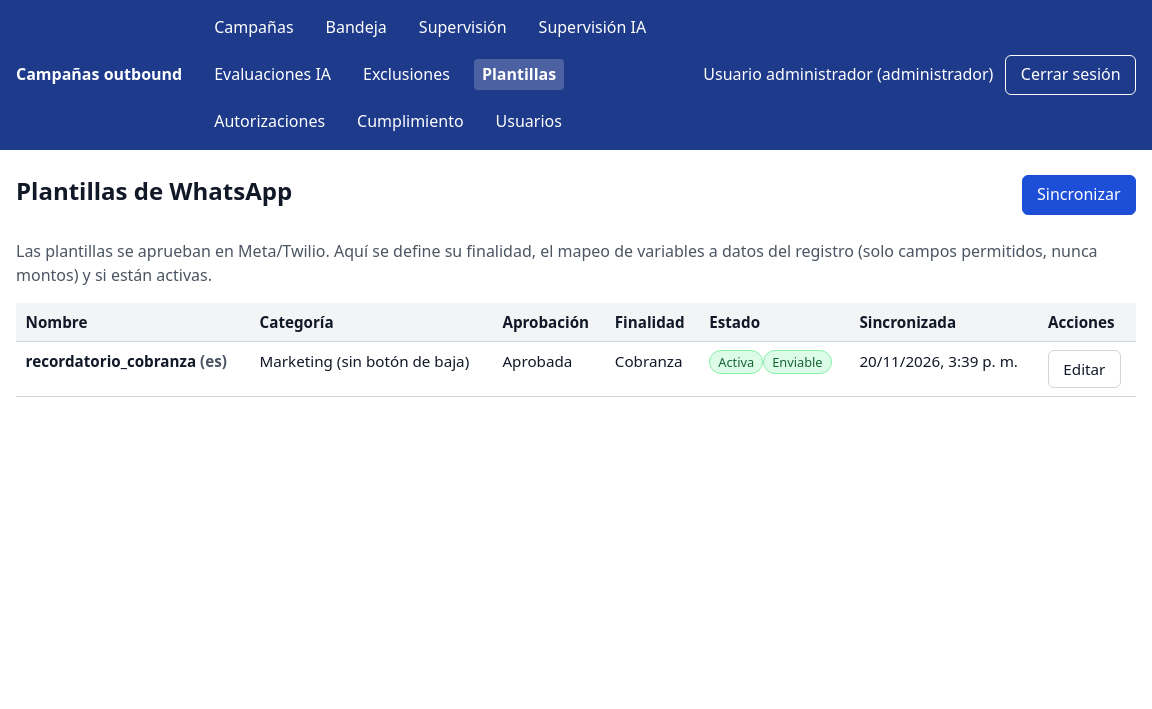
Test: Plantillas de WhatsApp › PLANTILLA_SIN_BAJA se muestra como error general
Click the button named "Editar recordatorio_cobranza" at point(1084, 369), box x1=1048 y1=350 x2=1121 y2=388
(page scrolled)
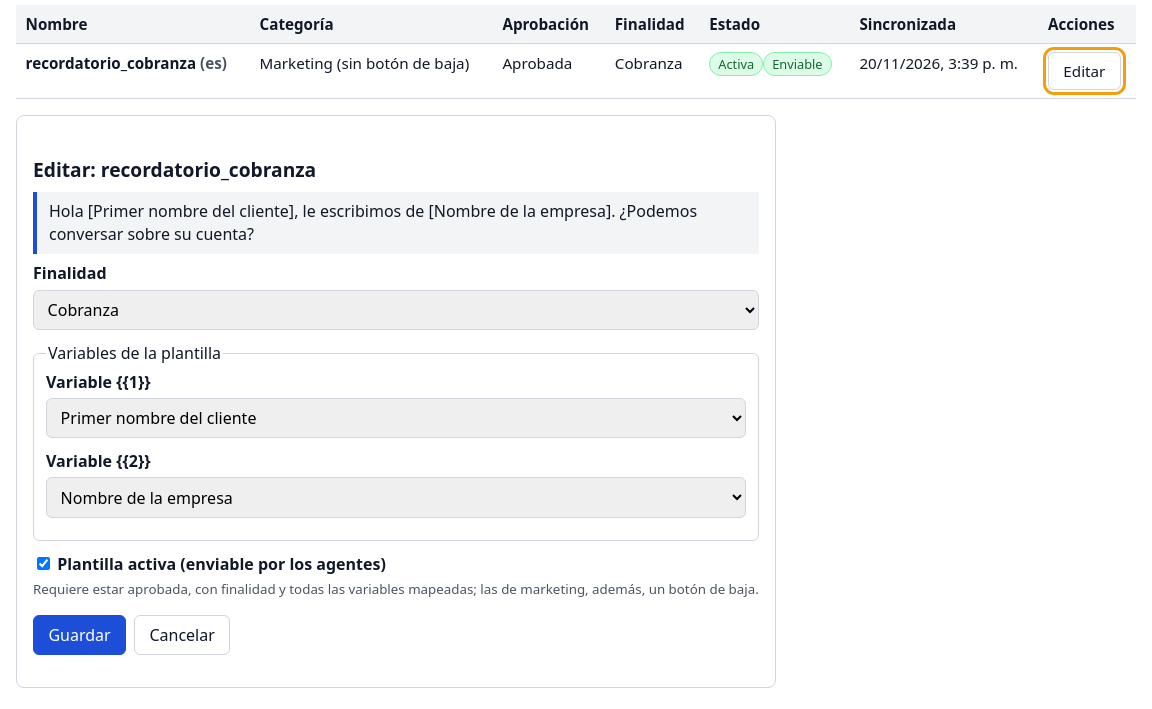
Click the button "Guardar" at point(80, 635), box x1=33 y1=615 x2=126 y2=655
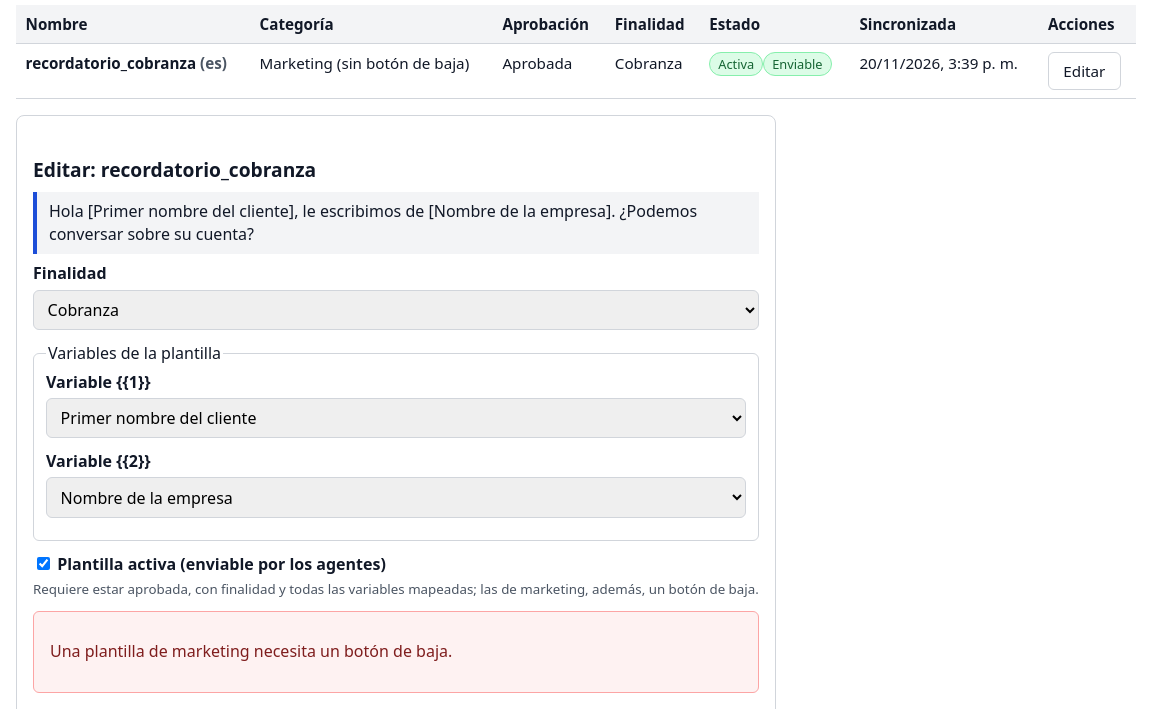
Now the text "Una plantilla de marketing necesita un botón de baja." is shown, box x1=50 y1=640 x2=452 y2=662
